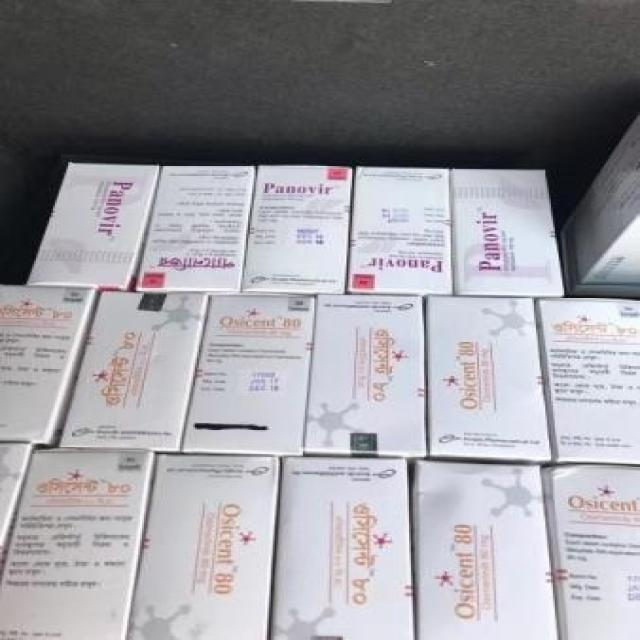box: (0, 447, 157, 639), (129, 452, 281, 639), (408, 458, 563, 638), (269, 456, 416, 638), (59, 290, 210, 452), (425, 296, 553, 466), (181, 296, 314, 456), (305, 294, 429, 458), (28, 162, 161, 291), (538, 298, 638, 465), (131, 167, 261, 295), (542, 466, 638, 639), (0, 284, 102, 446), (450, 168, 565, 297), (243, 167, 354, 294), (350, 167, 453, 296), (571, 113, 638, 285), (0, 446, 37, 570)
